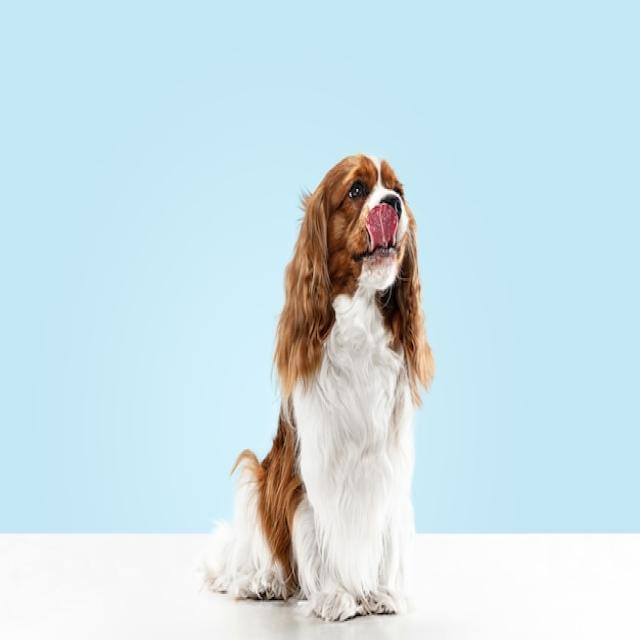Dog: (199, 155, 436, 621)
